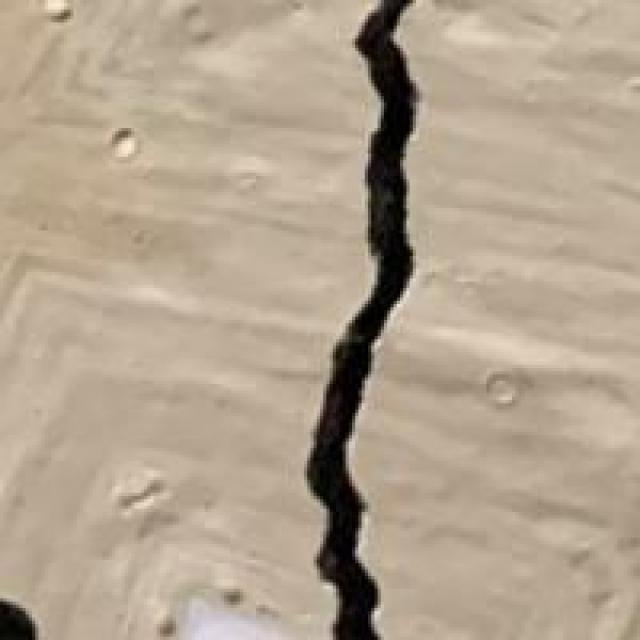crack: (224, 0, 480, 637)
